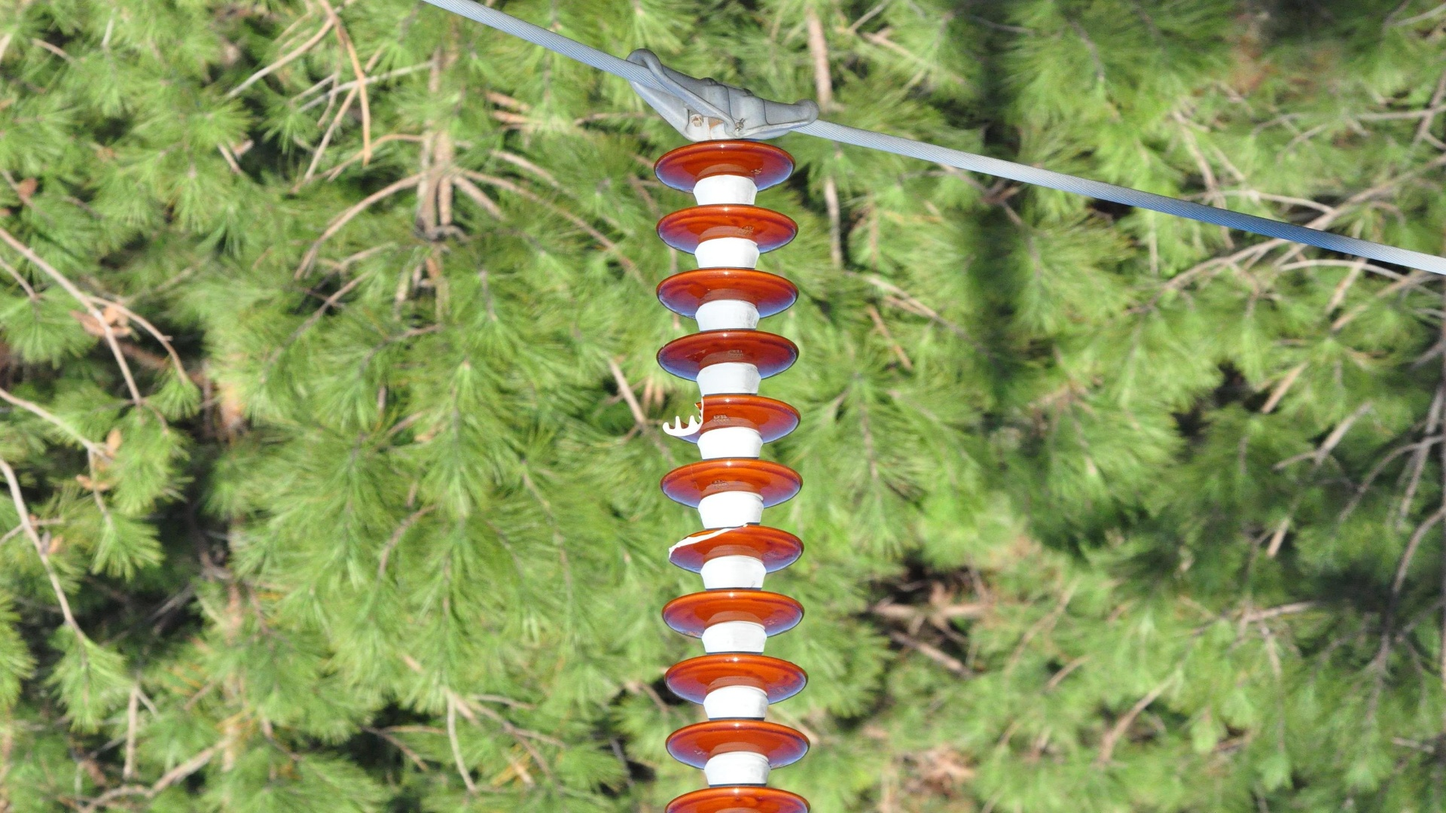insulator: (647, 136, 818, 813)
insulator_breakage: (663, 520, 810, 580), (660, 391, 712, 443)
